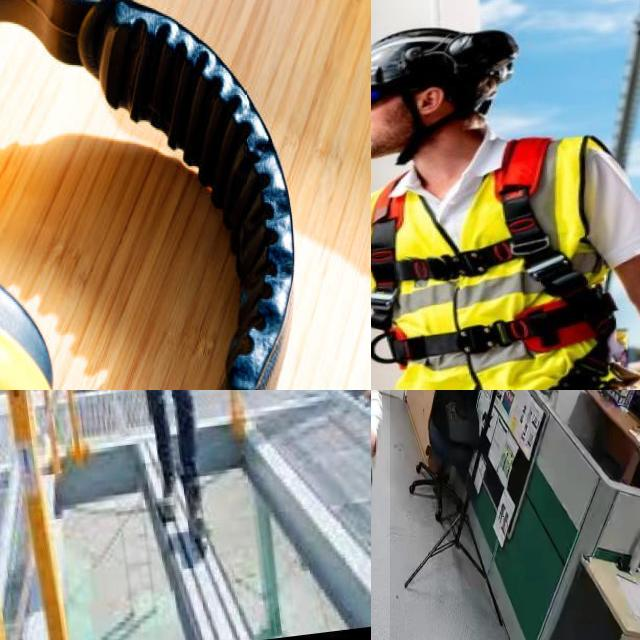Ear-protection: (0, 0, 305, 390)
Harness: (371, 135, 617, 366)
